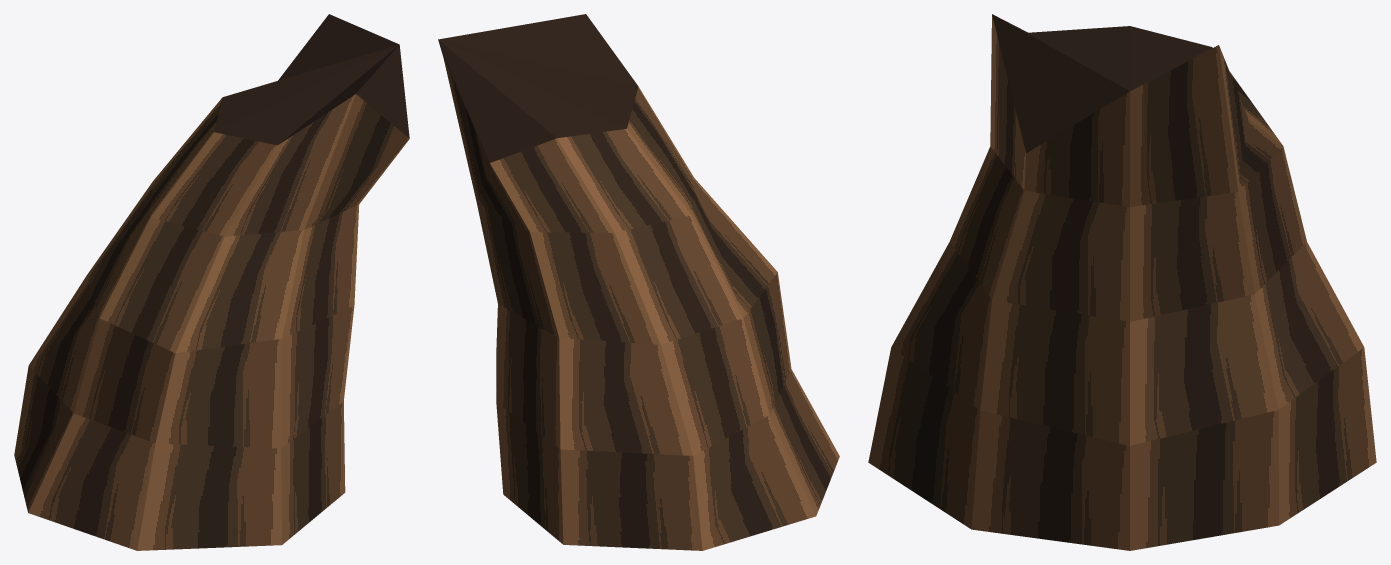
The model's file is PAN-01_Tocon_bajo.gltf.
The picture shows the model from 3 angles, left to right: view 1: azimuth 30°, elevation 25°; view 2: azimuth 150°, elevation 25°; view 3: azimuth 270°, elevation 25°; orthographic projection. The views are drawn at different scales.
Parts seen in each view (by area): view 1: PAN-01_Tocon_bajo-col; view 2: PAN-01_Tocon_bajo-col; view 3: PAN-01_Tocon_bajo-col.
Part boxes in pixels (box(x1,y1,x2,y2)): PAN-01_Tocon_bajo-col: box(14, 14, 409, 550); PAN-01_Tocon_bajo-col: box(438, 14, 839, 550); PAN-01_Tocon_bajo-col: box(868, 14, 1376, 550).
Size of the model in its own units: 1.48 by 1.5 by 1.29.
1 material, 1 textured.
